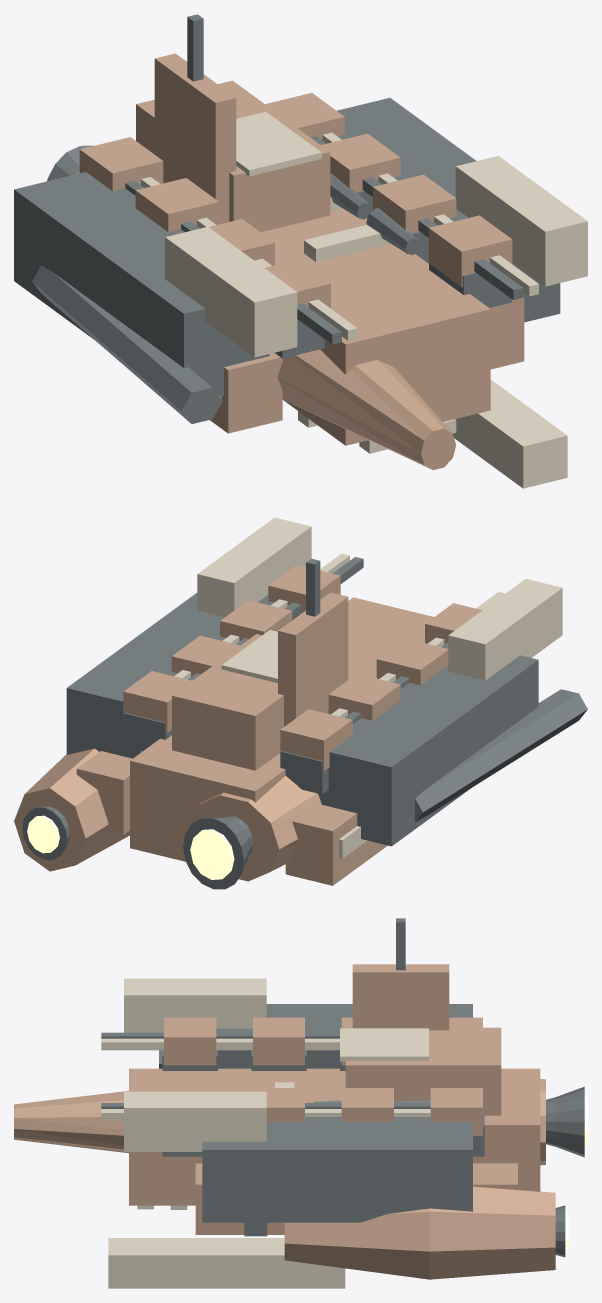
3 views of the same model, one above another, from view 1: azimuth 30°, elevation 25°; view 2: azimuth 150°, elevation 25°; view 3: azimuth 270°, elevation 25° (orthographic). The views are drawn at different scales.
Bounding box in the file's own units: 14.07 × 11.74 × 20.66.
